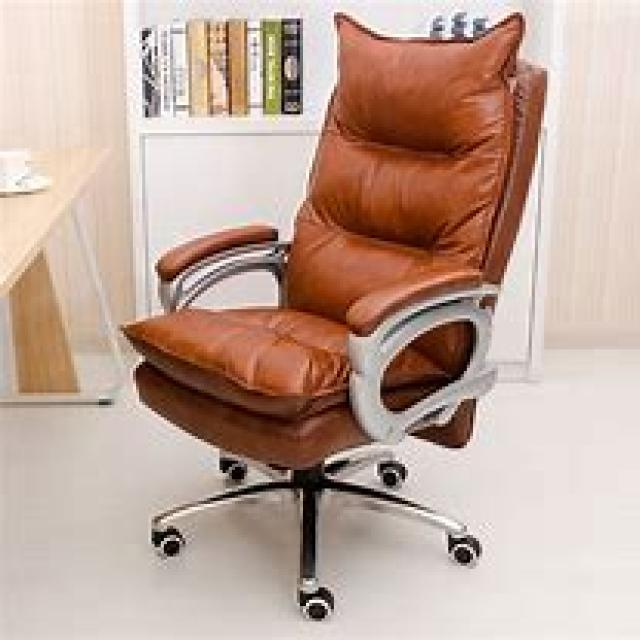chair: (118, 9, 548, 618)
